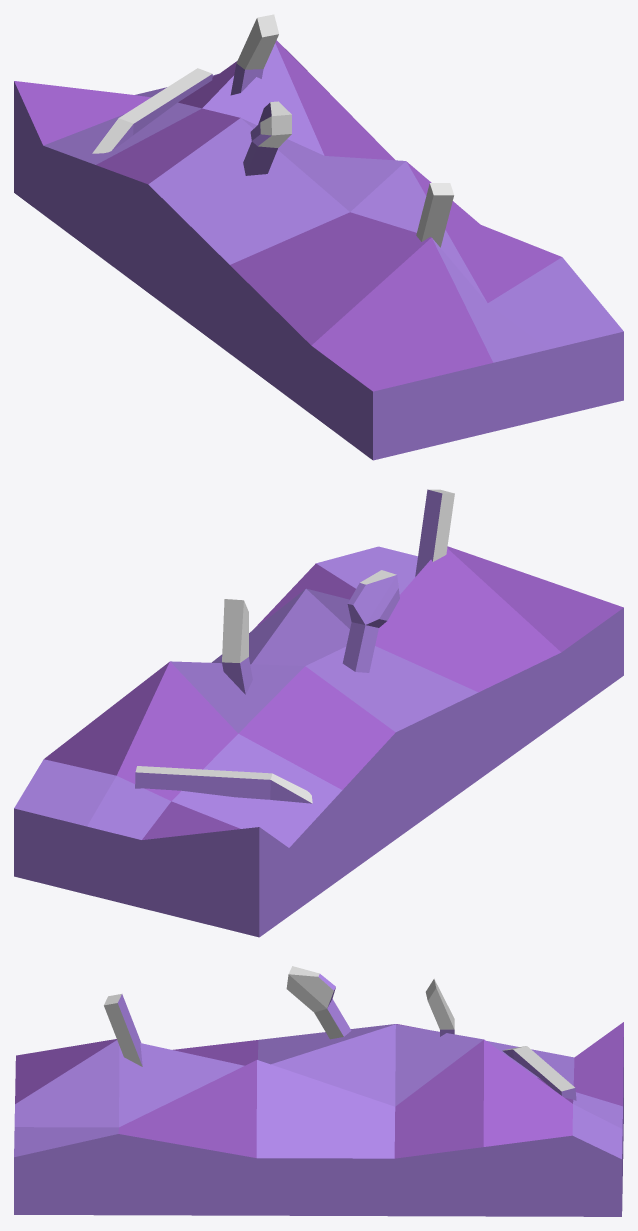
File: fridge_bones.glb
3 views of the same model, one above another, from view 1: azimuth 30°, elevation 25°; view 2: azimuth 150°, elevation 25°; view 3: azimuth 270°, elevation 25° (orthographic). The views are drawn at different scales.
Visible parts, largest first — view 1: Cube.047; view 2: Cube.047; view 3: Cube.047.
Boxes of the visible parts, x1,y1,x2,y2 form: Cube.047: (14,14,623,460); Cube.047: (14,489,623,937); Cube.047: (14,966,623,1216).
Size of the model in its own units: 0.3851 by 0.3274 by 0.9561.
